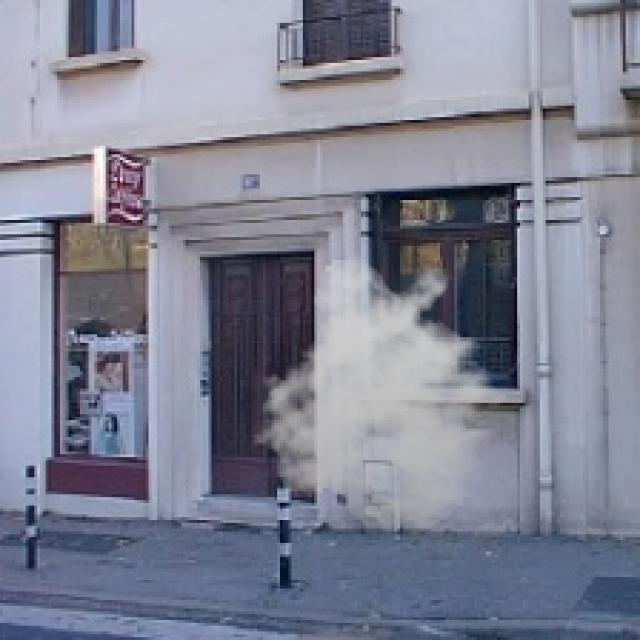Smoke: (246, 255, 523, 534)
